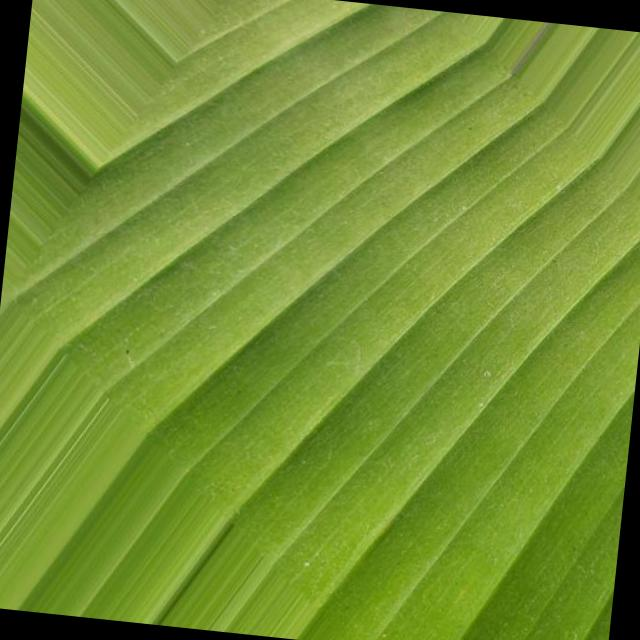Banana_Healthy: (217, 86, 578, 420)
